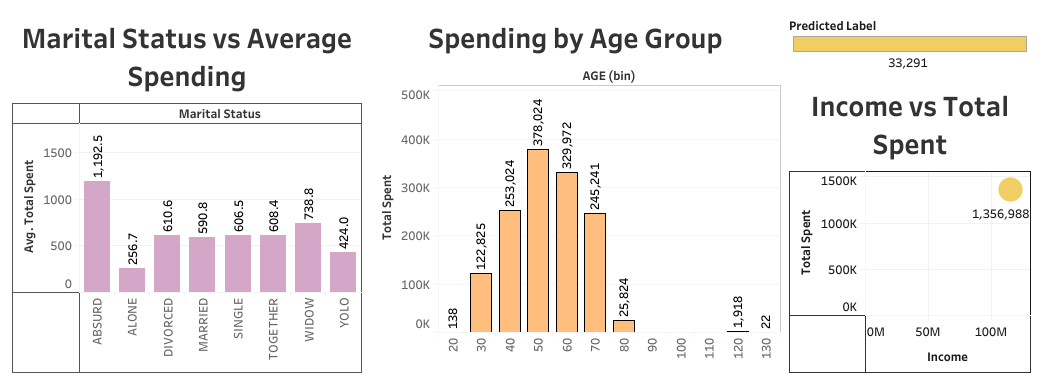

What the dashboard file says about the page in this screenshot:
{"tool":"tableau","page":{"name":"Customer Insights Overview","canvas":[1000,1000],"units":"permille","ordinal":2},"visuals":[{"type":"worksheet","title":"Sheet 5","mark":"Automatic","rows":["TOTAL_SPENT"],"cols":["MARITAL_STATUS"],"box":[5.8,17.7,371.3,964.6]},{"type":"worksheet","title":"Sheet 1","mark":"Automatic","rows":["TOTAL_SPENT"],"cols":["AGE (bin)"],"box":[377.1,17.7,435.1,964.6]},{"type":"legend","title":"Sheet 4","param":"[federated.0zwvmky1m0csmx10w9z831ql300v].[sum:PREDICTED_LABEL:qk]","box":[812.2,17.7,182,150.4]},{"type":"worksheet","title":"Sheet 4","mark":"Automatic","rows":["TOTAL_SPENT"],"cols":["INCOME"],"box":[812.2,168.1,182,814.2]}]}

Visuals, with their boxes on the dashboard's canvas, which has no fixed pixel size, in thousandths of its width and height (x1, y1, x2, y2). These are canvas units, not pixel positions in the 1042x384 screenshot, which may show the page scaled, cropped or inside an application window:
"Sheet 5" worksheet: box=[6, 18, 377, 982]
"Sheet 1" worksheet: box=[377, 18, 812, 982]
"Sheet 4" legend: box=[812, 18, 994, 168]
"Sheet 4" worksheet: box=[812, 168, 994, 982]
